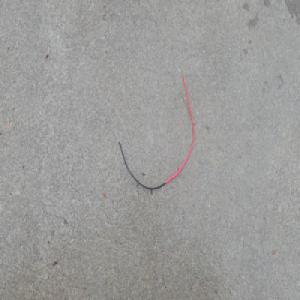Wire: (112, 63, 195, 191)
